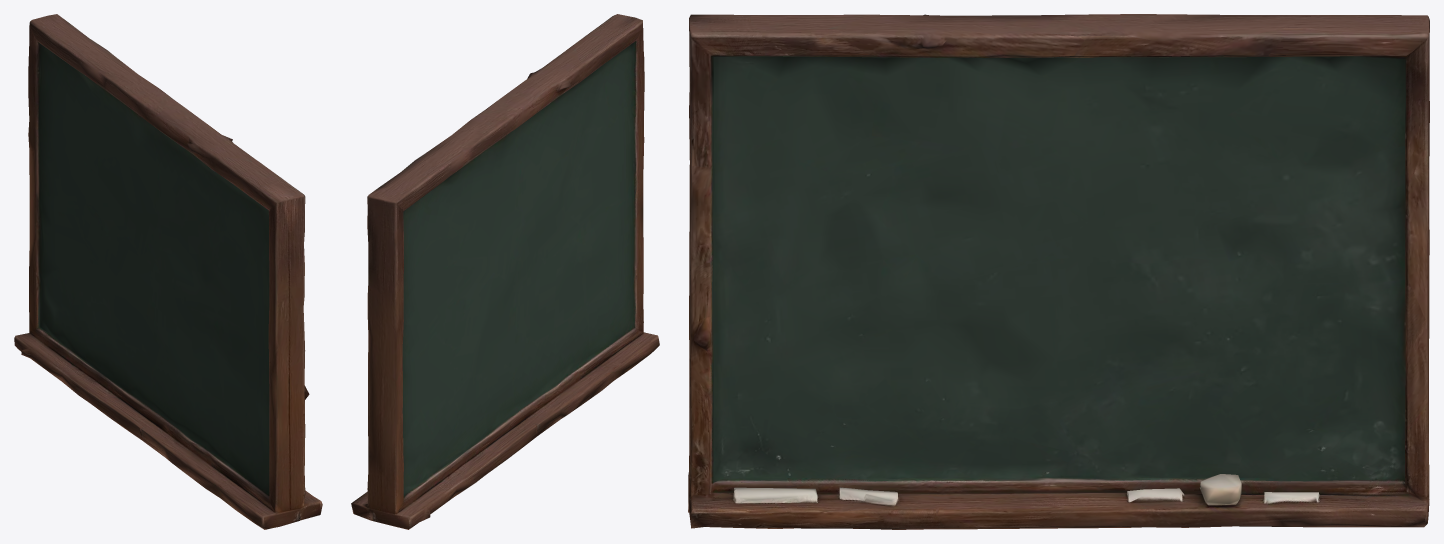
File: blackboard.glb
3 renders of one model, left to right at view 1: azimuth 30°, elevation 25°; view 2: azimuth 150°, elevation 25°; view 3: azimuth 270°, elevation 25°, orthographic. The views are drawn at different scales.
Visible parts, largest first — view 1: tripo_node_b68774fe-23ca-49d2-a7c6-9d628c315c8a; view 2: tripo_node_b68774fe-23ca-49d2-a7c6-9d628c315c8a; view 3: tripo_node_b68774fe-23ca-49d2-a7c6-9d628c315c8a.
Boxes of the visible parts, x1,y1,x2,y2 form: tripo_node_b68774fe-23ca-49d2-a7c6-9d628c315c8a: (14, 14, 322, 529); tripo_node_b68774fe-23ca-49d2-a7c6-9d628c315c8a: (351, 14, 659, 529); tripo_node_b68774fe-23ca-49d2-a7c6-9d628c315c8a: (688, 14, 1429, 529).
Bounding box in the file's own units: 0.1564 × 0.723 × 1.
Materials: 1 (1 with a texture image).
